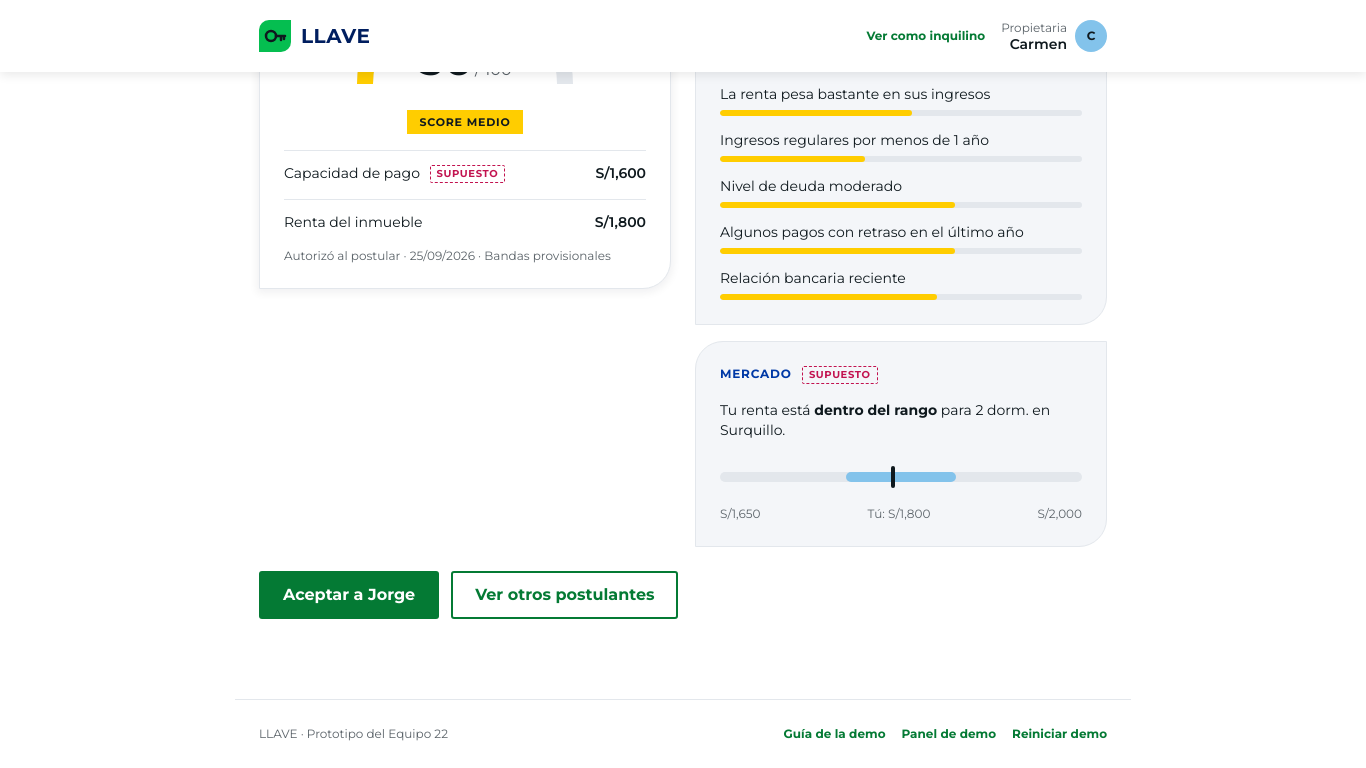
it: conexión de journeys › si Carmen acepta a otro postulante, Lucía ve su postulación como no seleccionada
(page scrolled)
Click the button with test id "resultado-aceptar-button".
click(349, 595)  # box [259,571,439,619]
(page scrolled)
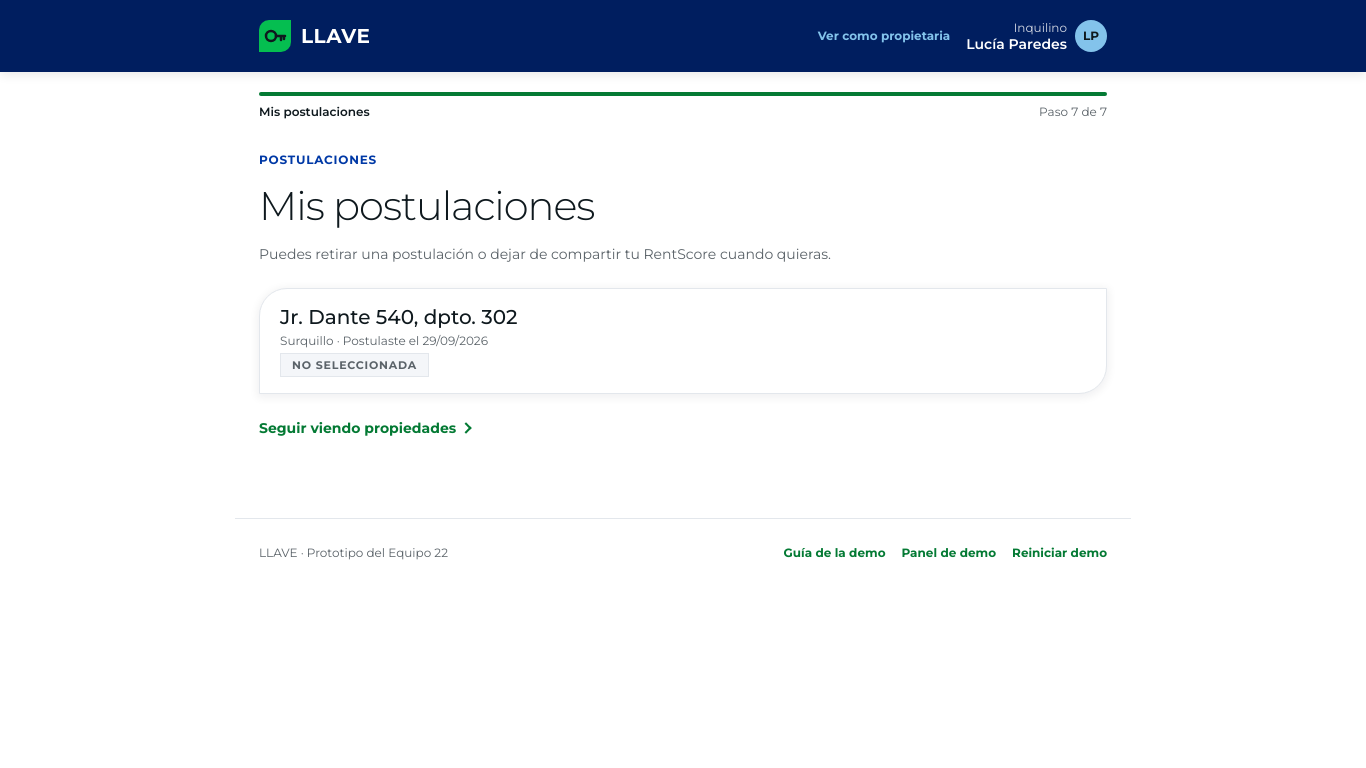
expect the element with test id "postulacion-surquillo-01" shows "No seleccionada": met, box [292,358,417,372]
